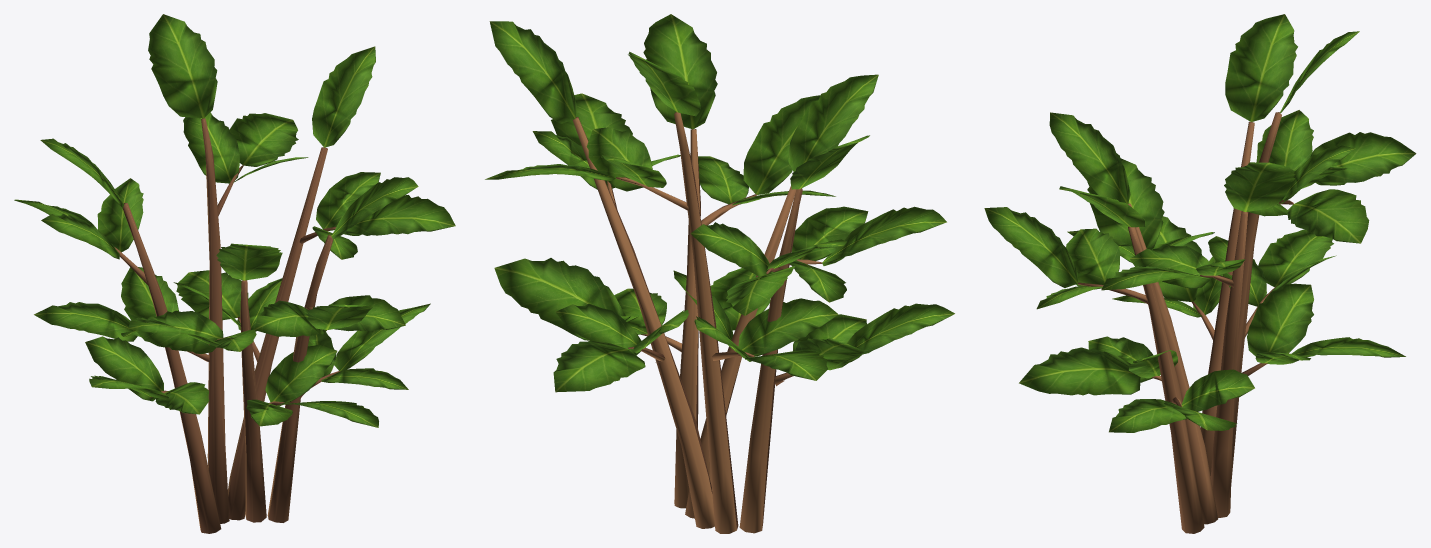
The model's file is NP_Raspberry_Young_LOD1.fbx.
3 views of the same model, side by side, from view 1: azimuth 30°, elevation 25°; view 2: azimuth 150°, elevation 25°; view 3: azimuth 270°, elevation 25° (orthographic). The views are drawn at different scales.
Parts seen in each view (by area): view 1: NP_Raspberry_Young; view 2: NP_Raspberry_Young; view 3: NP_Raspberry_Young.
Part boxes in pixels (box(x1,y1,x2,y2)): NP_Raspberry_Young: box(14, 14, 455, 533); NP_Raspberry_Young: box(485, 14, 954, 533); NP_Raspberry_Young: box(984, 14, 1416, 533).
Bounding box in the file's own units: 45.47 × 53.67 × 43.78.
